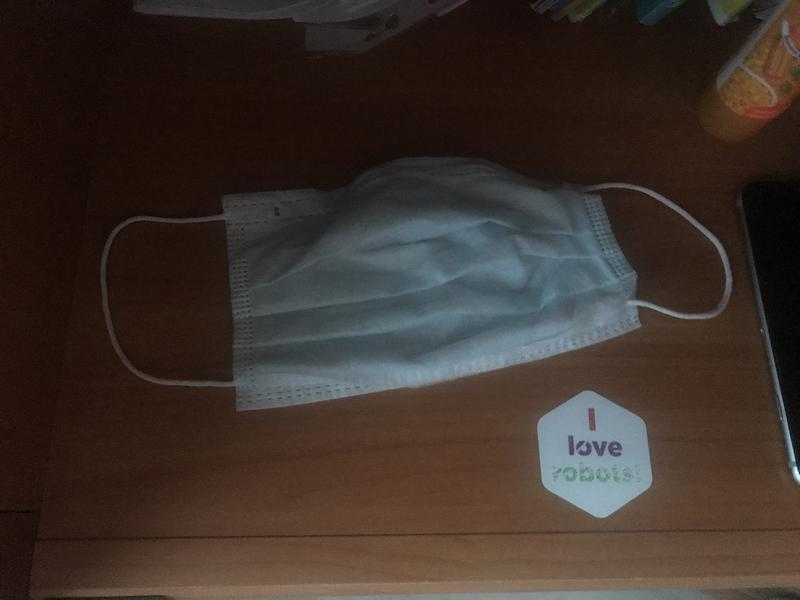medical_mask: (97, 158, 733, 389)
